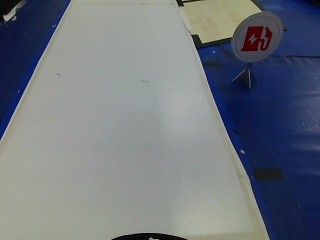battery: (230, 15, 276, 62)
